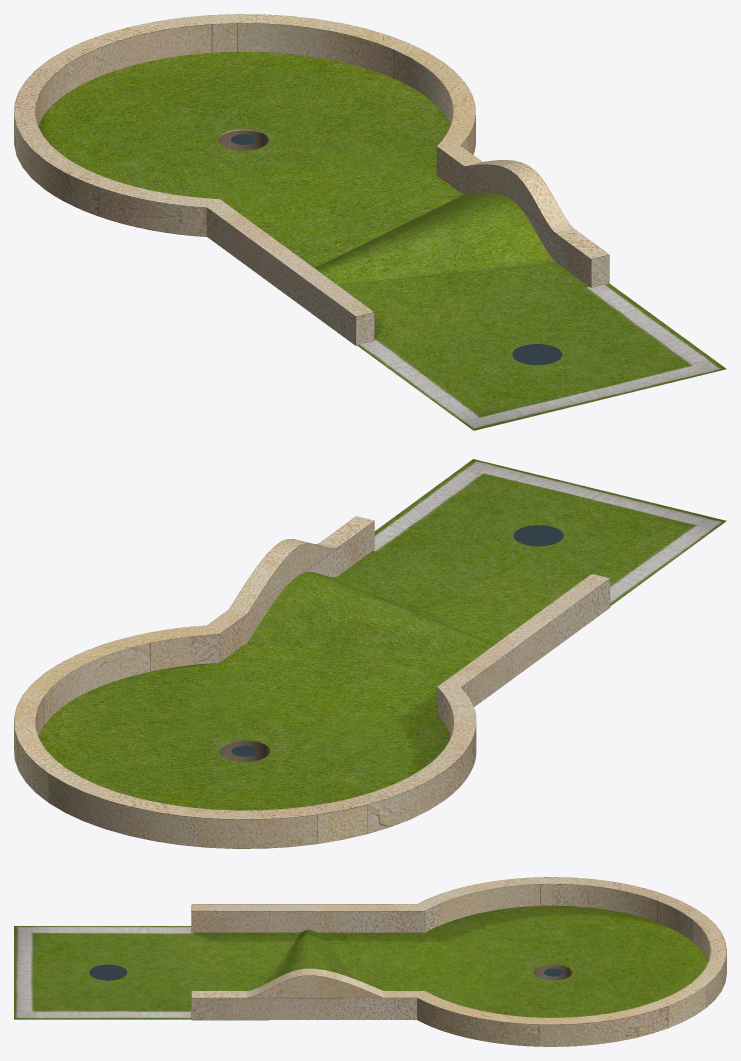
The model's file is pista4-resalto-peque.glb.
3 views of the same model, one above another, from view 1: azimuth 30°, elevation 25°; view 2: azimuth 150°, elevation 25°; view 3: azimuth 270°, elevation 25° (orthographic). The views are drawn at different scales.
Parts seen in each view (by area): view 1: circuito-suelo, paredes, punto-pelota, foso; view 2: circuito-suelo, paredes, punto-pelota, foso; view 3: circuito-suelo, paredes, punto-pelota, foso.
Boxes of the visible parts, x1,y1,x2,y2 form: circuito-suelo: [38, 52, 726, 430]; paredes: [14, 14, 609, 345]; punto-pelota: [512, 344, 562, 365]; foso: [218, 129, 268, 150]; circuito-suelo: [38, 459, 726, 810]; paredes: [14, 516, 610, 848]; punto-pelota: [513, 525, 563, 546]; foso: [219, 740, 270, 761]; circuito-suelo: [14, 905, 708, 1019]; paredes: [191, 877, 726, 1046]; punto-pelota: [89, 964, 127, 980]; foso: [533, 964, 572, 980].
Size of the model in its own units: 2.2 by 0.5582 by 4.5.
Materials: 5 (3 with a texture image).
